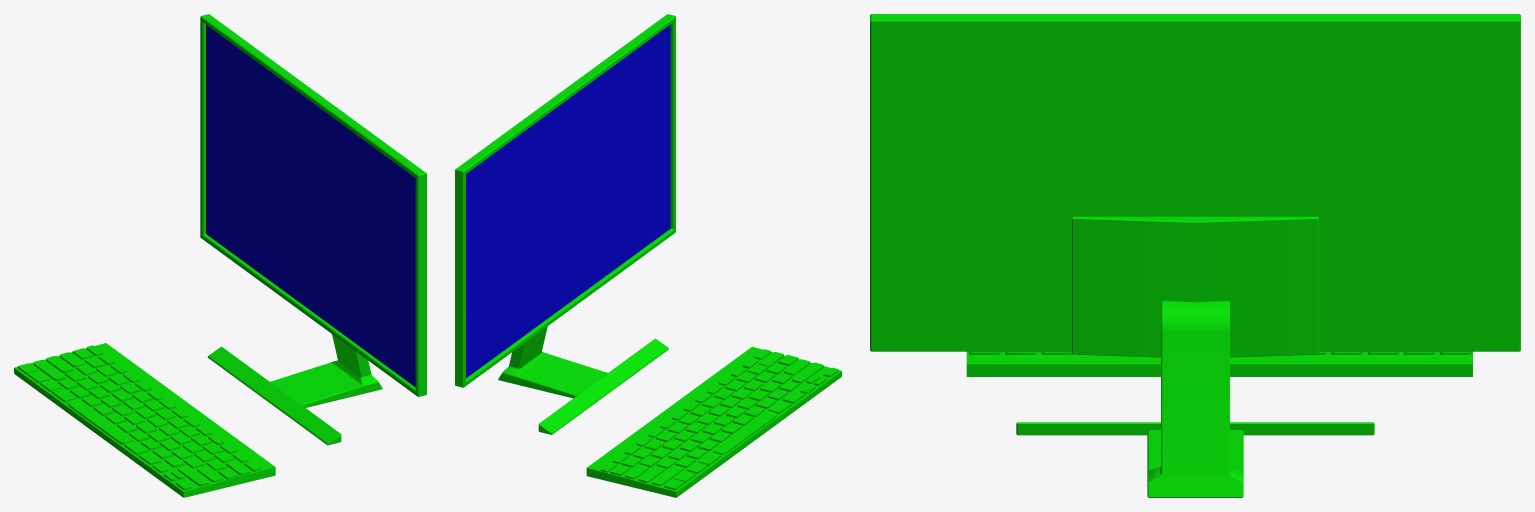
3 views of the same model, side by side, from view 1: azimuth 30°, elevation 25°; view 2: azimuth 150°, elevation 25°; view 3: azimuth 270°, elevation 25° (orthographic). The views are drawn at different scales.
Parts seen in each view (by area): view 1: PC:Monitor, PC:keyboard; view 2: PC:Monitor, PC:keyboard; view 3: PC:Monitor, PC:keyboard.
Part boxes in pixels (x1=…): PC:Monitor: x1=200, y1=14, x2=426, y2=445; PC:keyboard: x1=14, y1=343, x2=275, y2=497; PC:Monitor: x1=455, y1=14, x2=675, y2=434; PC:keyboard: x1=586, y1=346, x2=841, y2=497; PC:Monitor: x1=870, y1=14, x2=1520, y2=497; PC:keyboard: x1=966, y1=351, x2=1472, y2=376.
Size of the model in its own units: 42.96 by 46.87 by 62.33.
